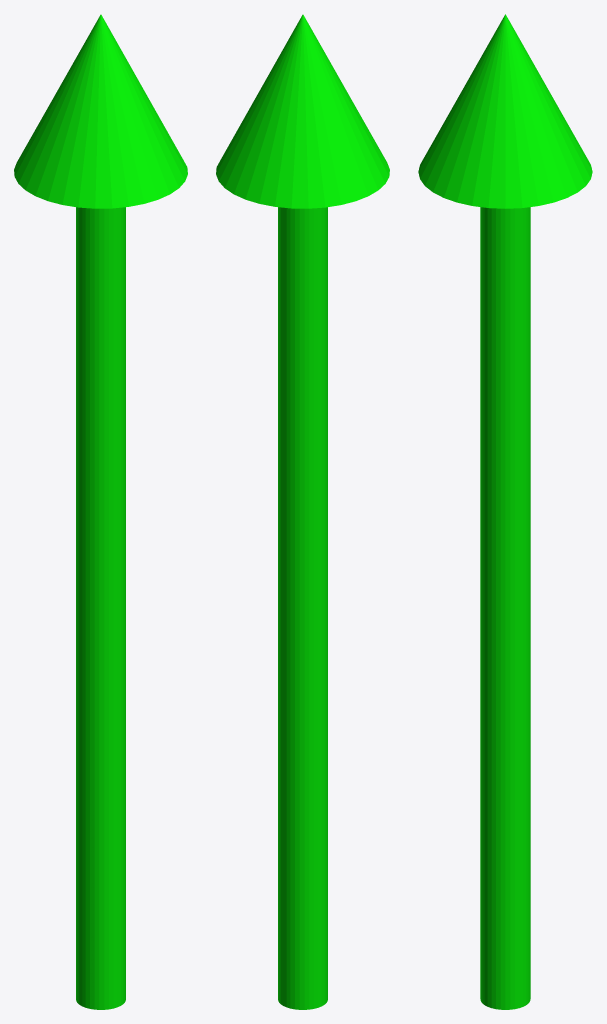
Rendered from Yarrow.fbx.
The picture shows the model from 3 angles, left to right: view 1: azimuth 30°, elevation 25°; view 2: azimuth 150°, elevation 25°; view 3: azimuth 270°, elevation 25°; orthographic projection.
Visible parts, largest first — view 1: Zarrow; view 2: Zarrow; view 3: Zarrow.
Part boxes in pixels (x1,y1,x2,y2): Zarrow: (14, 14, 187, 1009); Zarrow: (216, 14, 389, 1009); Zarrow: (418, 14, 592, 1009).
Size of the model in its own units: 34.86 by 217 by 34.86.
